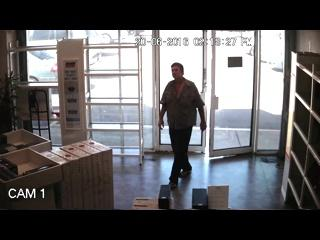Normal: (158, 63, 206, 190)
